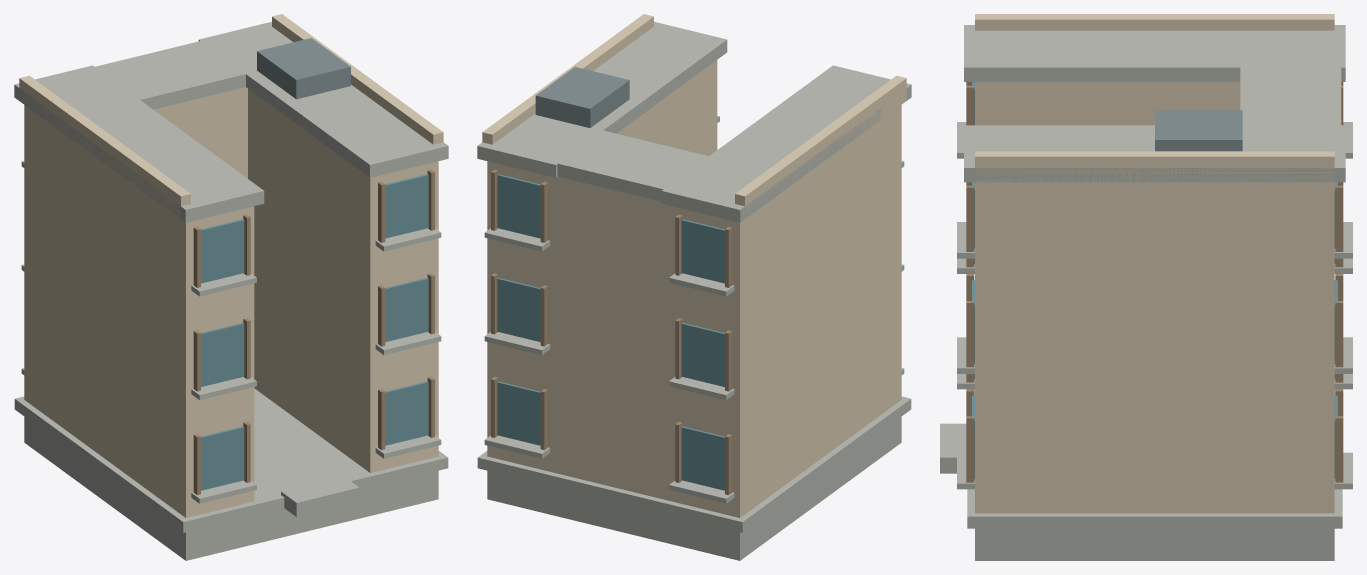
File: courtyard-2.glb
3 views of the same model, side by side, from view 1: azimuth 30°, elevation 25°; view 2: azimuth 150°, elevation 25°; view 3: azimuth 270°, elevation 25° (orthographic). The views are drawn at different scales.
Size of the model in its own units: 3.88 by 5.25 by 4.71.
